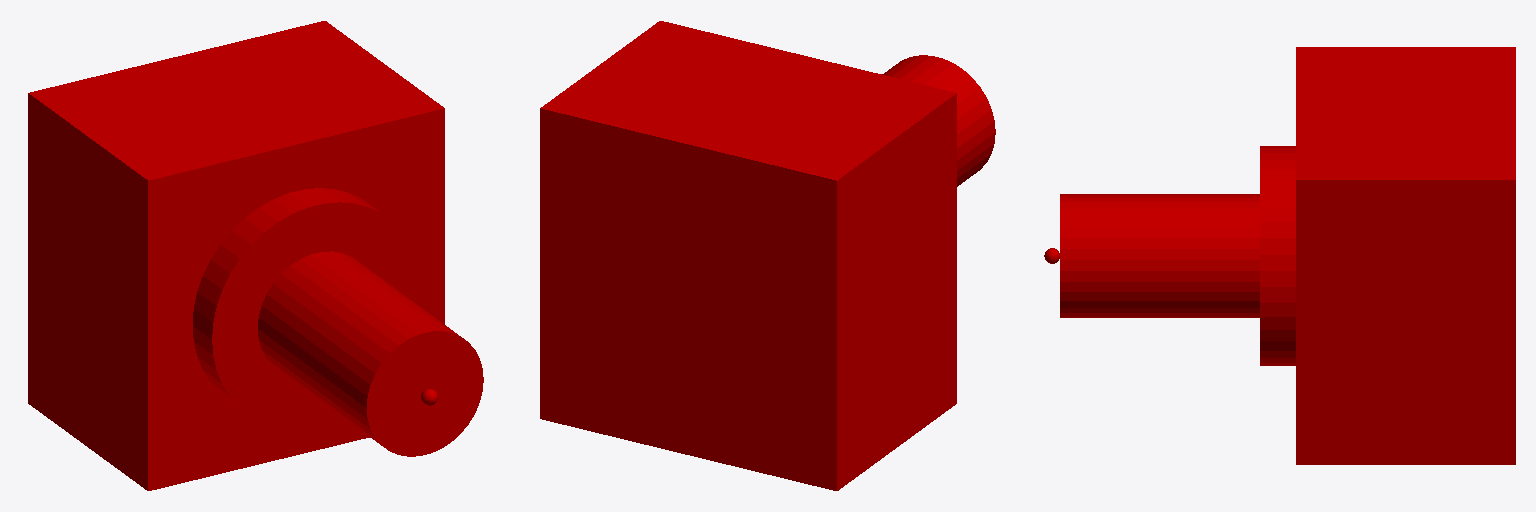
The robot description file, URDF, robot "triangle":
<?xml version="1.0" ?>
<robot name="triangle">
  <link name="baseLink">
    <contact>
      <lateral_friction value="0.2"/>
      <rolling_friction value="0.0"/>
	<restitution value="0.0" />
    </contact>
    <inertial>
      <origin rpy="0 0 0" xyz="0 0 0"/>
       <mass value="10"/>
       <inertia ixx="0" ixy="0" ixz="0" iyy="0" iyz="0" izz="0"/>
    </inertial>
    <visual>
      <origin rpy="0 0 0" xyz="0 0 0"/>
      <geometry>
		<mesh filename="./peg_3d4.obj" scale="0.1 0.1 0.1"/>
      </geometry>
       <material name="red">
        <color rgba="0.8 0 0 1"/>
      </material>
    </visual>
    <collision>
      <origin rpy="0 0 0" xyz="0 0 0"/>
      <geometry>
	 	<mesh filename="./peg_3d4.obj" scale="0.1 0.1 0.1"/>
      </geometry>
    </collision>
  </link>
</robot>

--- What the picture shows (computed from the rendered views, not written in the file) ---
3 views of the same robot in one strip: view 1: azimuth 30°, elevation 25°; view 2: azimuth 150°, elevation 25°; view 3: azimuth 270°, elevation 25° (orthographic).
Model triangle with 1 links and 0 joints (none), rooted at baseLink, posed all joints at 0.
Links seen in each view (by area): view 1: baseLink; view 2: baseLink; view 3: baseLink.
Boxes of the visible links, x1,y1,x2,y2 form: baseLink: (28,21,483,490); baseLink: (540,21,995,490); baseLink: (1044,47,1515,464).
Bounding box of the posed robot: 1 × 1.5 × 1 m (x, y, z).
Meshes: 1 distinct files referenced, 1 mesh visuals loaded (1 OBJ).